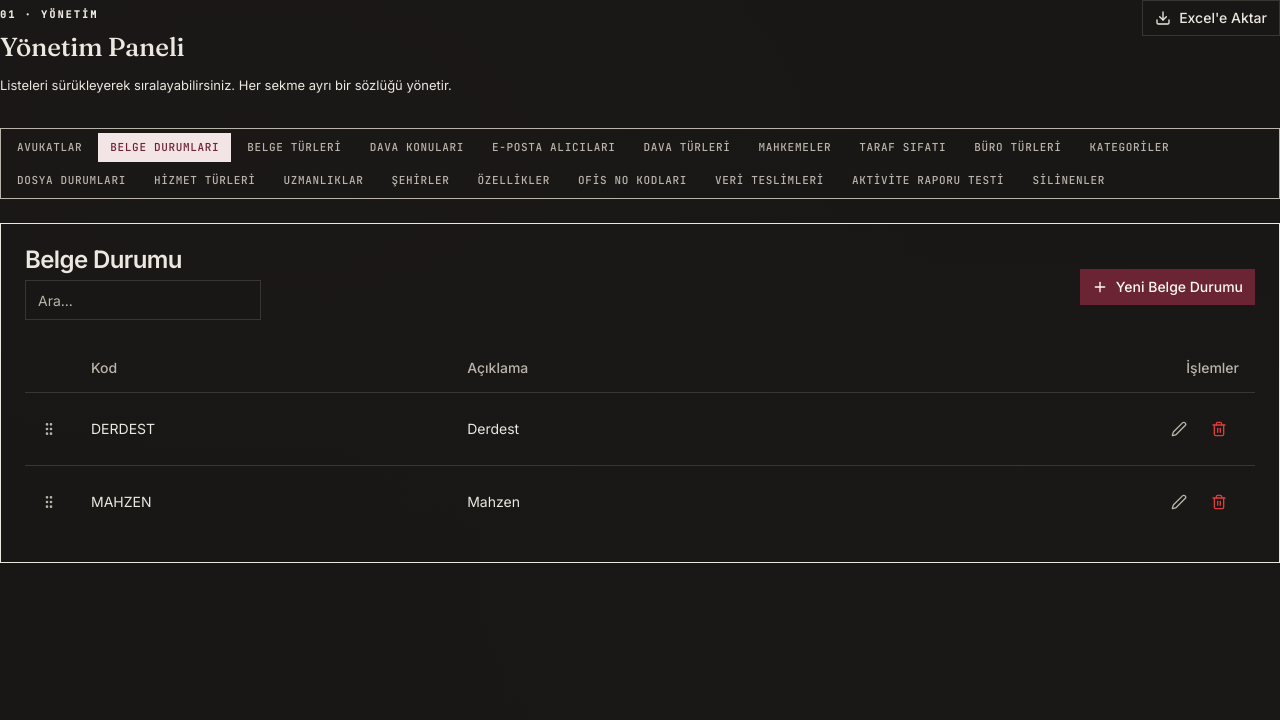
Test: AdminPage avukat listesi kurumsal kimlikle, kodsuz (G229) › diğer listeler değişmez: durumlarda kod sütunu, 'Sil' ve genel silme ucu kalır
The width and height of the screenshot is (1280, 720).
expect the row "DERDEST Derdest" is shown: met, box [25,392,1255,465]
Click the 5th button at {"x": 1219, "y": 429}, box [1199,409,1239,449]
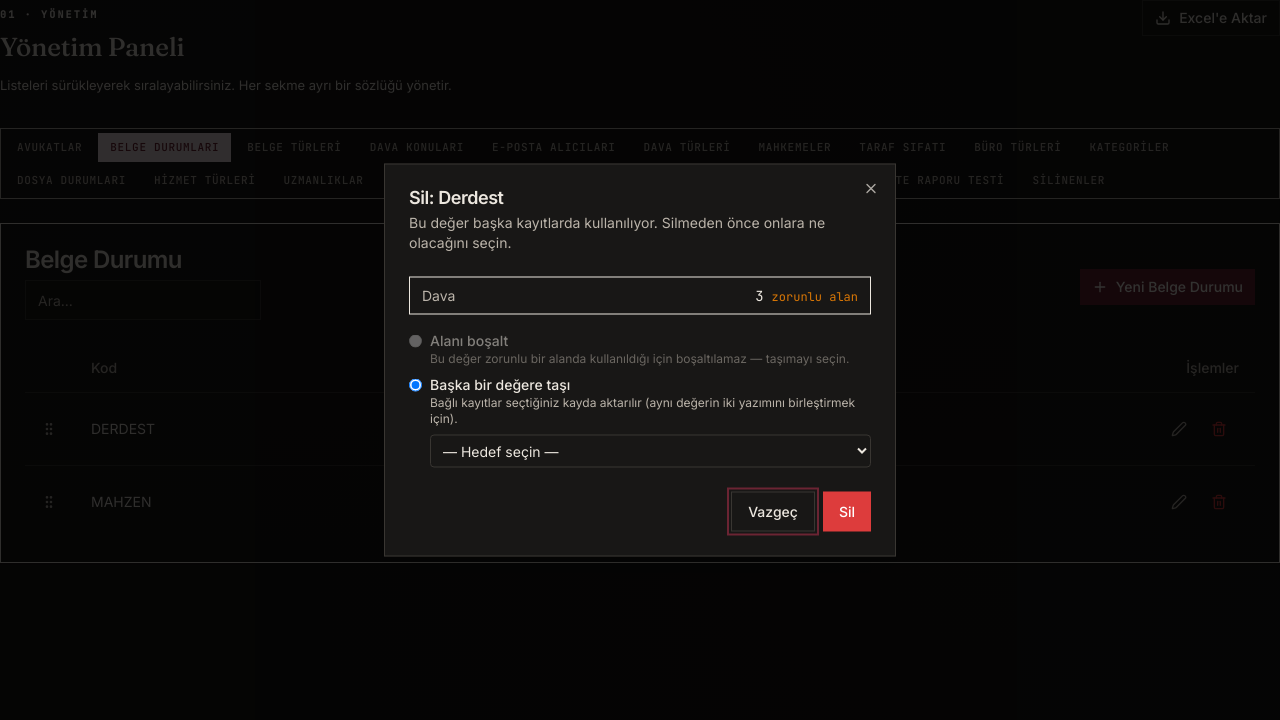
expect the dialog shows "Başka bir değere taşı": met, box [430,376,570,392]
